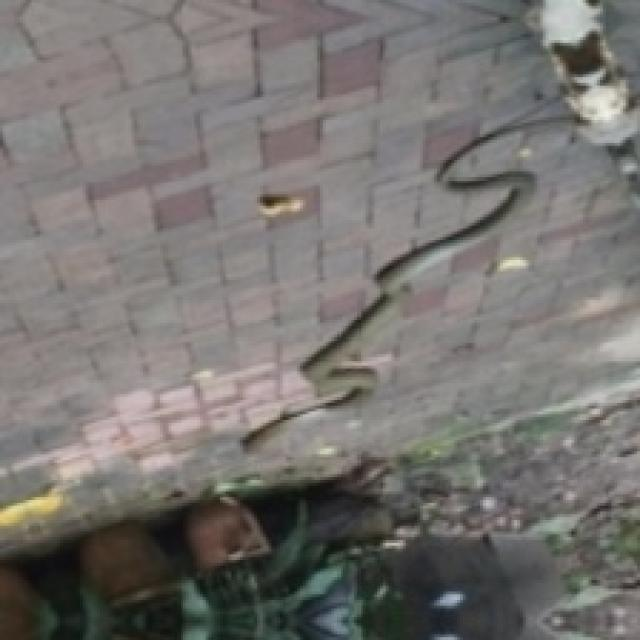king cobra: (242, 120, 544, 449)
